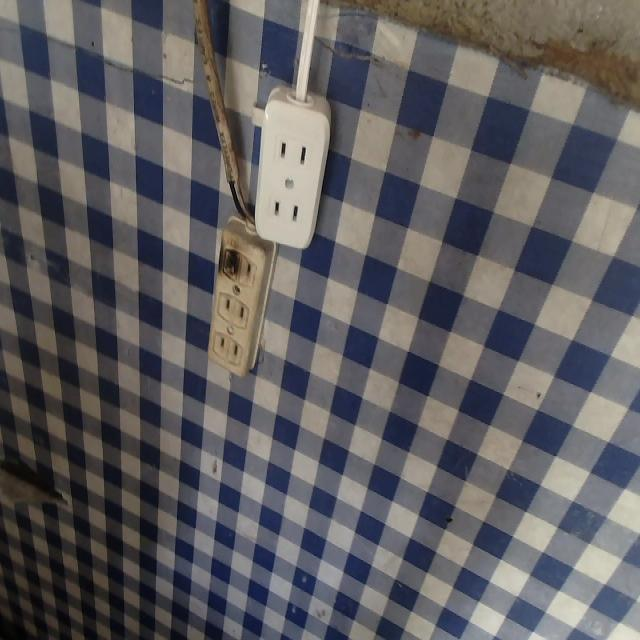-: (218, 236, 245, 281)
